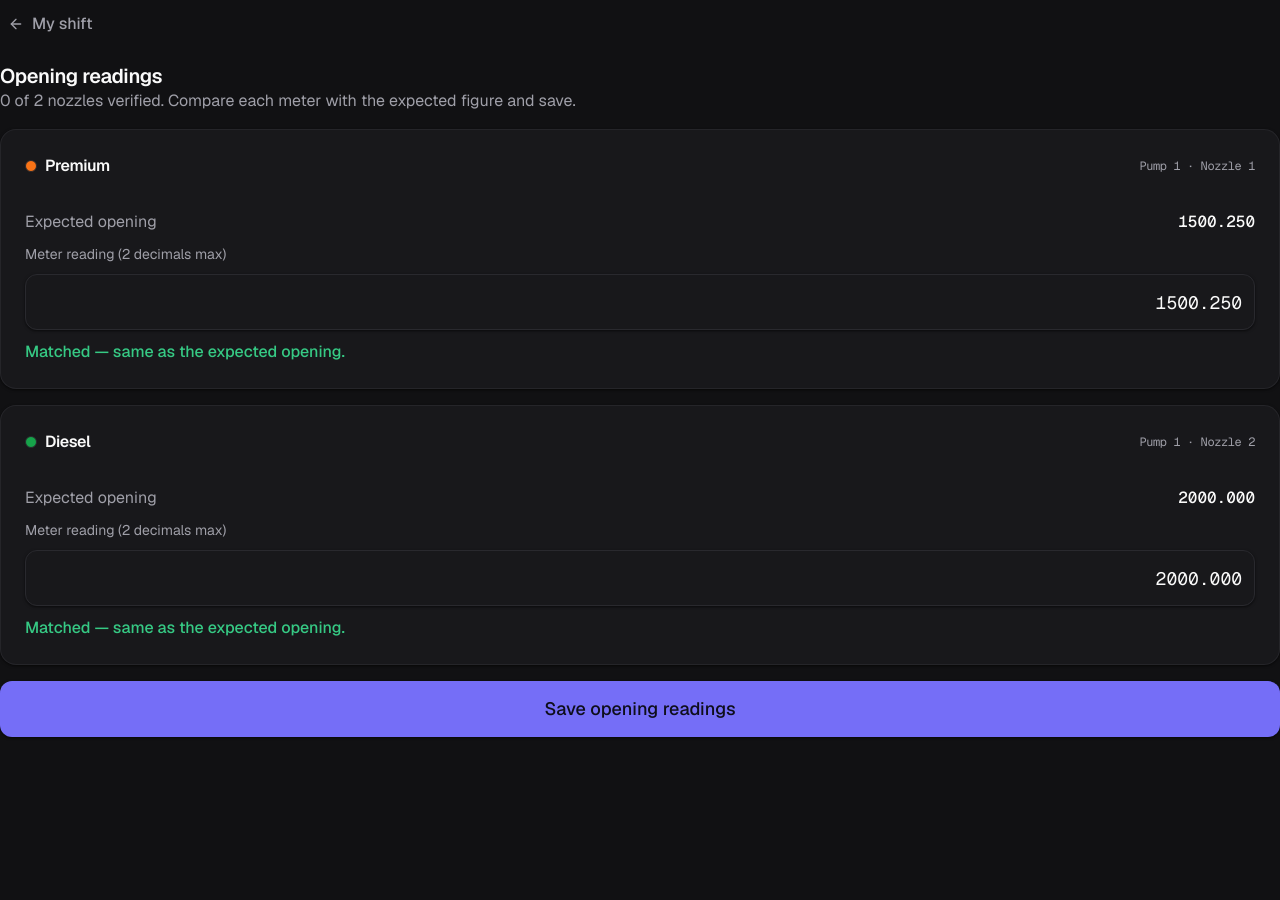
Test: OpeningReadingsPage › maps the server's 422 opening_below_expected onto the supervisor message
This screenshot has width=1280, height=900.
Click the button "Save opening readings" at (640, 709), box top-left (0, 681), bottom-right (1279, 737)
(page scrolled)
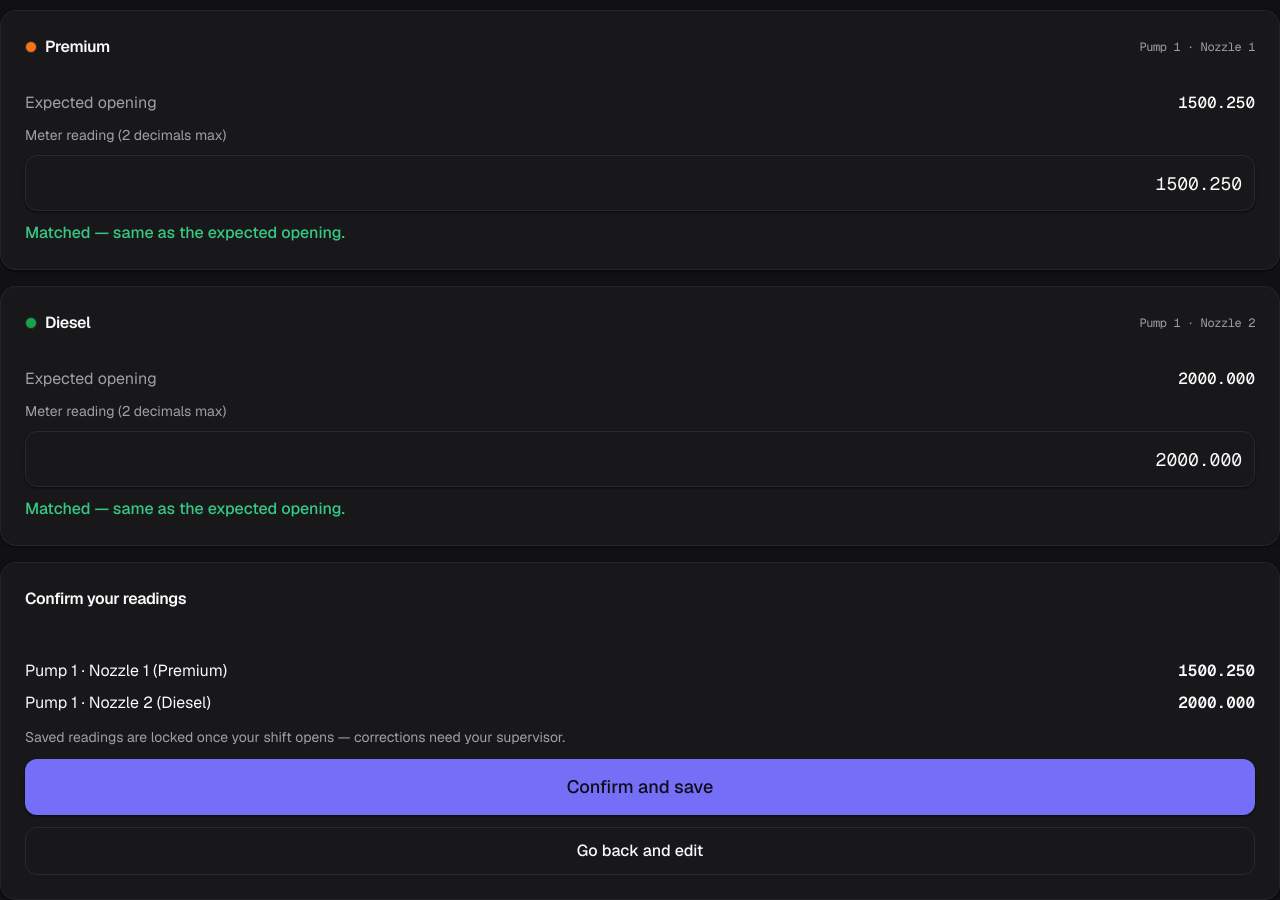
Click the button "Confirm and save" at (640, 787), box top-left (25, 759), bottom-right (1255, 815)
(page scrolled)
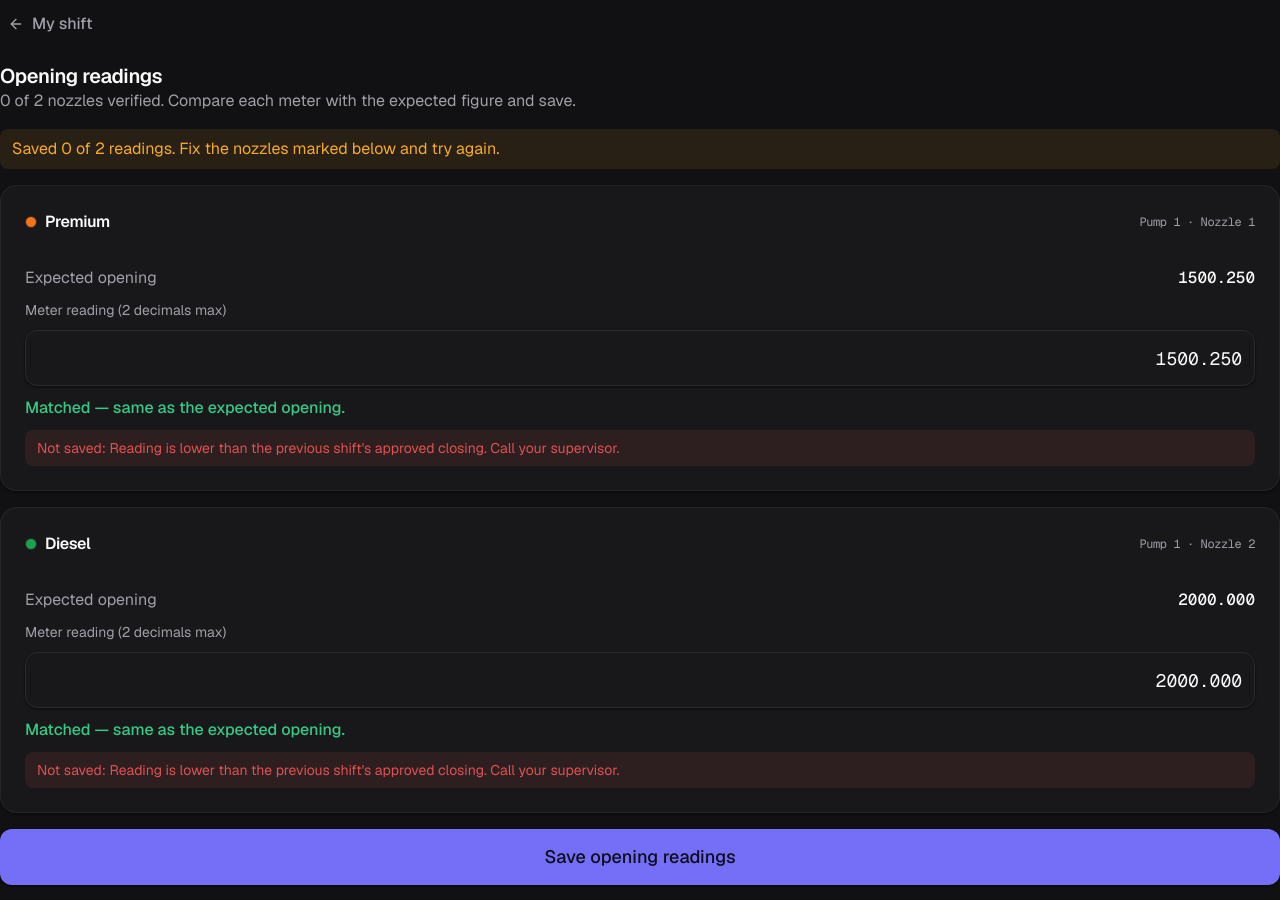
Now the text "Saved 0 of 2 readings. Fix the nozzles marked below and try again." is shown, box top-left (0, 129), bottom-right (1279, 169)
Now the text "lower than the previous shift's approved closing" below "1500.250" is shown, box top-left (37, 439), bottom-right (619, 457)
